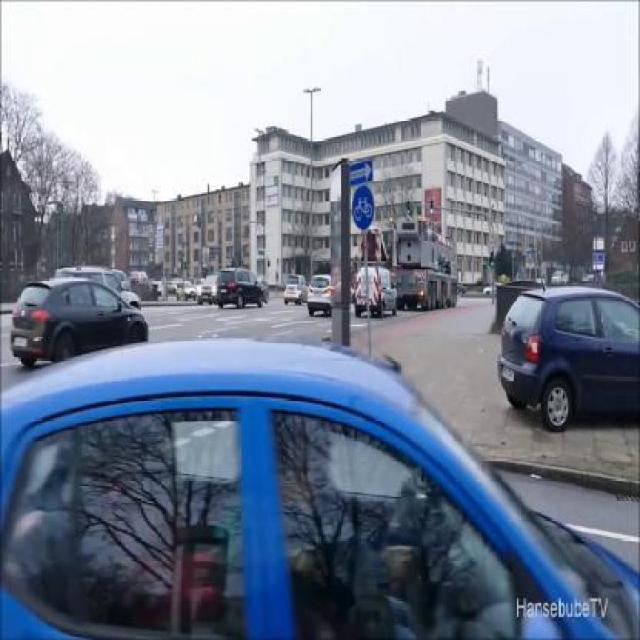Mobile Crane: (392, 211, 458, 307)
